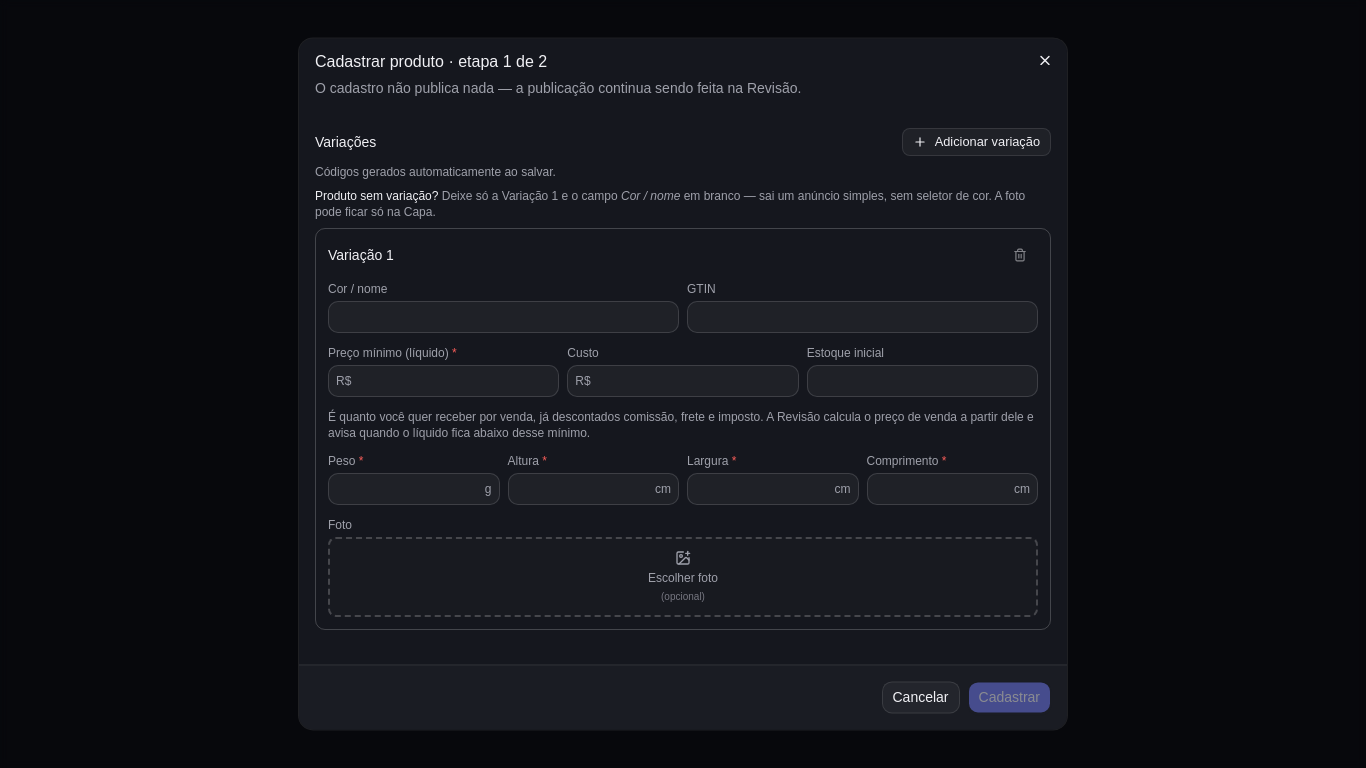
Test: DialogCadastroProduto — formulário em cards › estoque fracionário é recusado inline
The width and height of the screenshot is (1366, 768).
(page scrolled)
Type "2,5" into the field named "Estoque inicial da variação 1" at [922, 381], box [807,365,1038,397]
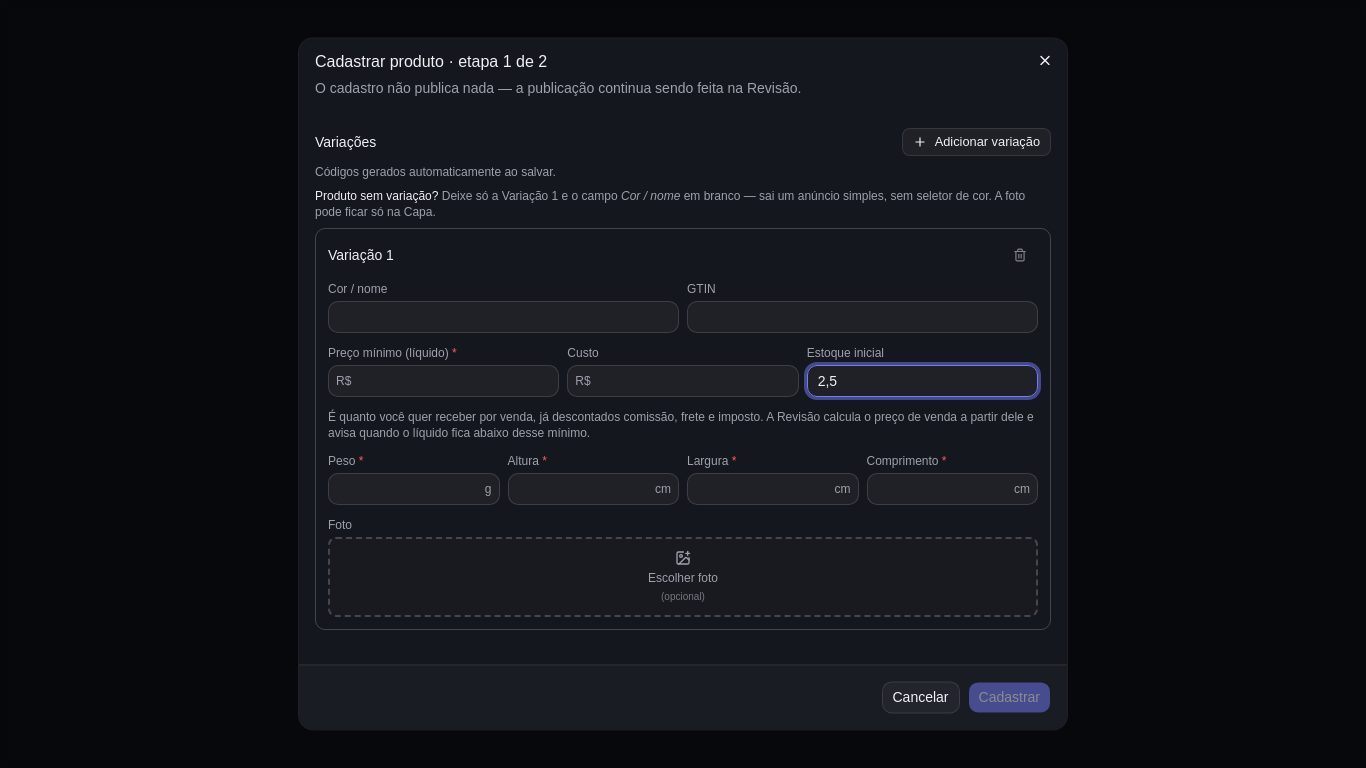
Press Tab
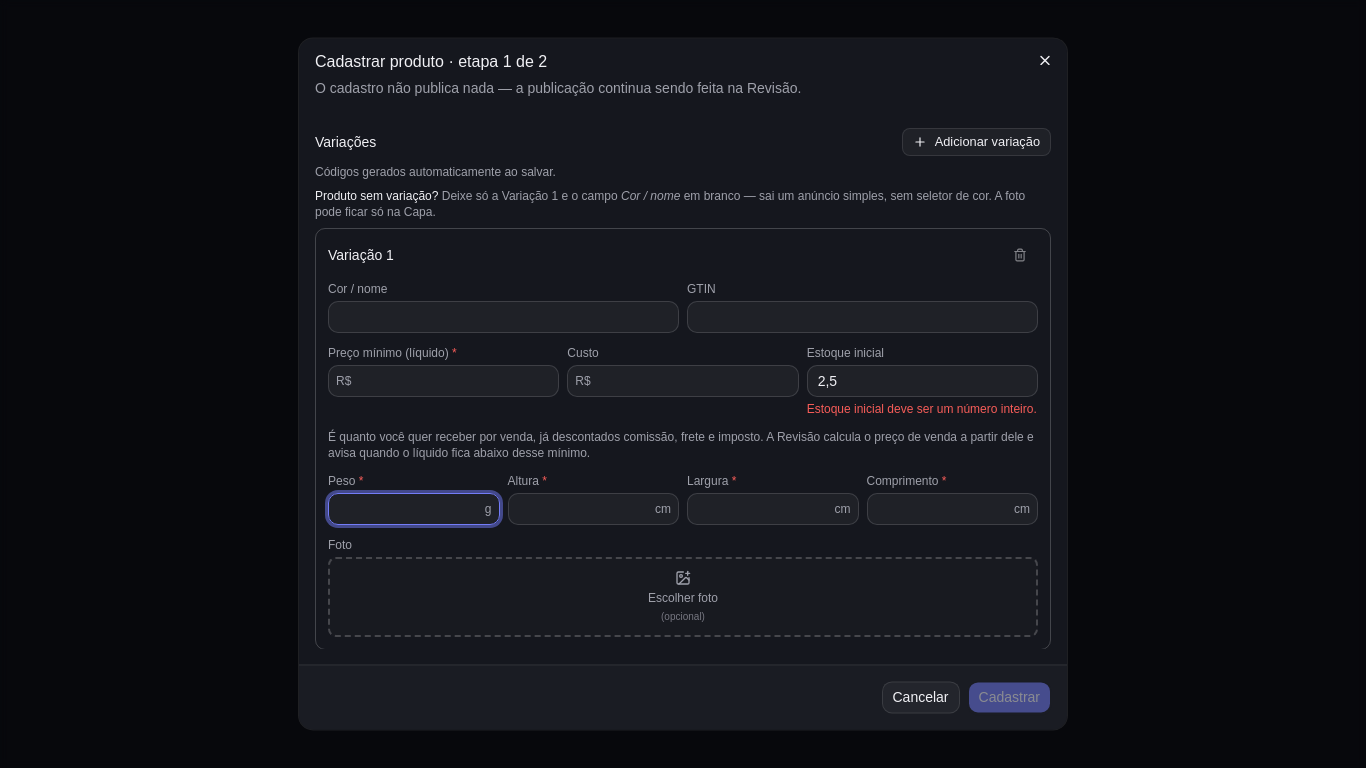
Now the text "Estoque inicial deve ser um número inteiro." is shown, box [807,401,1038,417]
